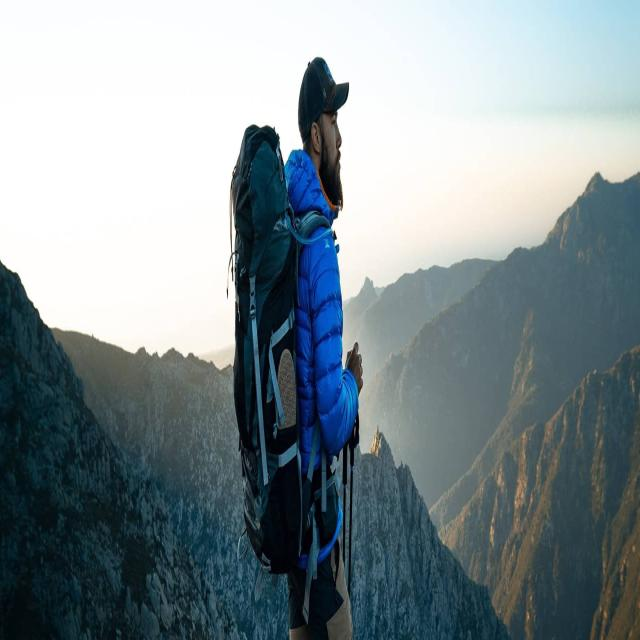backpack: (228, 124, 339, 576)
